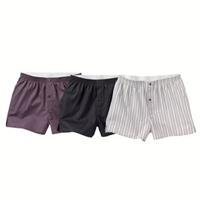mutande: (105, 74, 195, 140), (5, 71, 70, 134), (57, 74, 117, 136)
